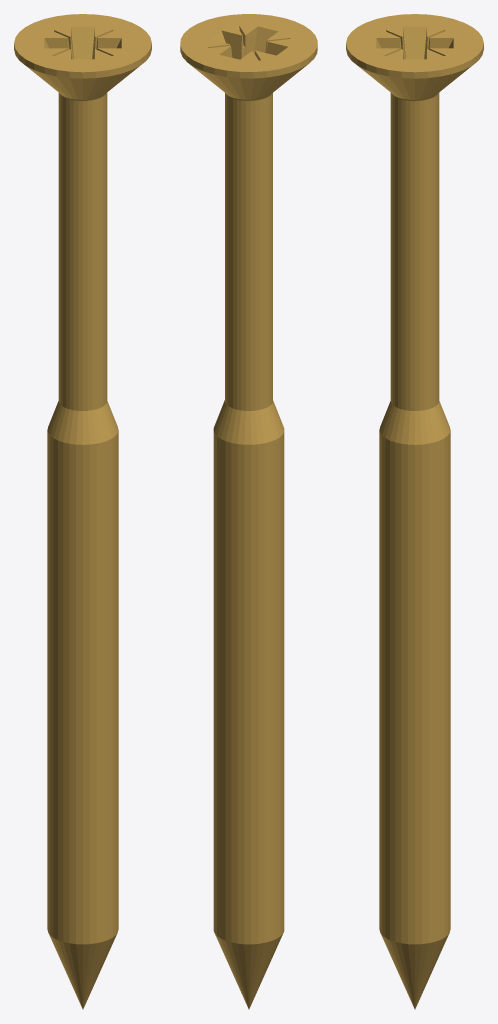
The model's file is model_display.glb.
3 renders of one model, left to right at view 1: azimuth 90°, elevation 25°; view 2: azimuth 150°, elevation 25°; view 3: azimuth 270°, elevation 25°, orthographic.
Visible parts, largest first — view 1: geometry_0; view 2: geometry_0; view 3: geometry_0.
Part boxes in pixels (x1=…): geometry_0: x1=14, y1=14, x2=151, y2=1009; geometry_0: x1=180, y1=14, x2=317, y2=1009; geometry_0: x1=346, y1=14, x2=483, y2=1009.
Size of the model in its own units: 0.00775 by 0.06 by 0.00775.
